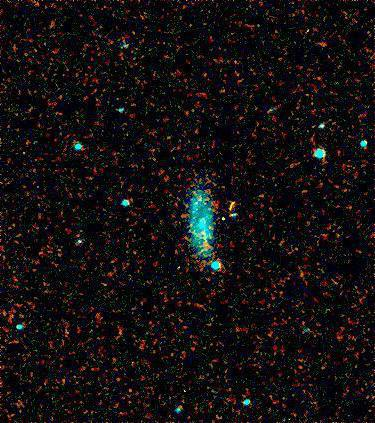star: (207, 207, 237, 237)
